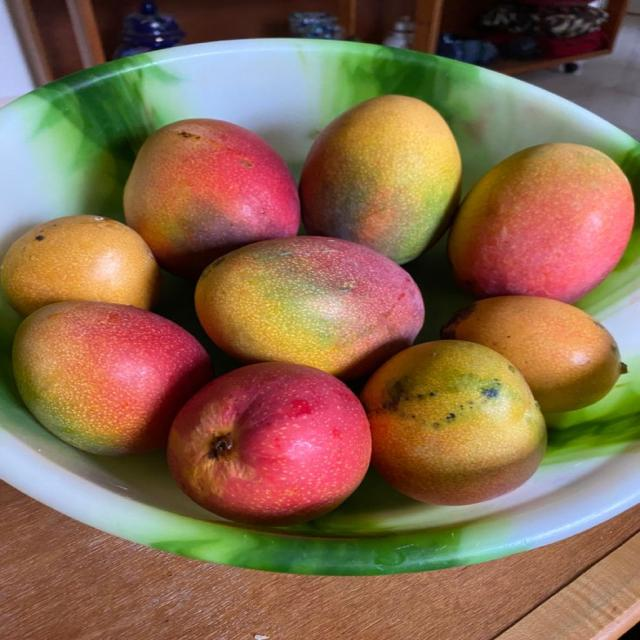mango: (195, 237, 424, 378), (361, 340, 546, 504), (14, 302, 212, 454), (449, 143, 633, 302), (124, 119, 299, 279), (300, 95, 461, 264), (441, 296, 626, 412), (0, 215, 159, 315)
